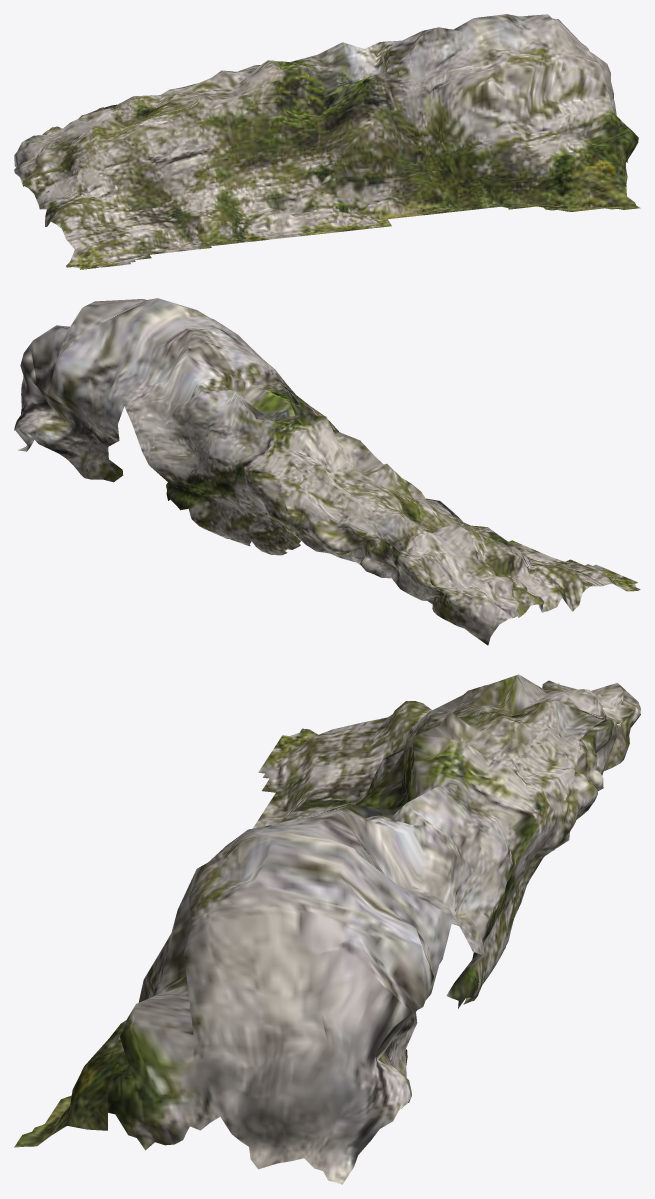
The model's file is MOUNTAIN_3.fbx.
3 views of the same model, one above another, from view 1: azimuth 30°, elevation 25°; view 2: azimuth 150°, elevation 25°; view 3: azimuth 270°, elevation 25° (orthographic). The views are drawn at different scales.
Visible parts, largest first — view 1: Plane.003; view 2: Plane.003; view 3: Plane.003.
Part boxes in pixels (<box>): Plane.003: <box>14,14,640,269</box>; Plane.003: <box>14,298,640,645</box>; Plane.003: <box>14,674,640,1184</box>.
Bounding box in the file's own units: 2639 × 675 × 1522.
